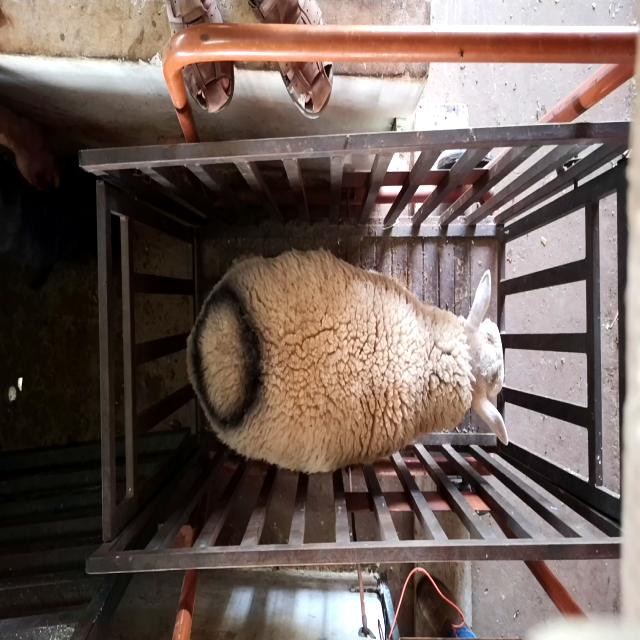sheep: (186, 248, 510, 474)
